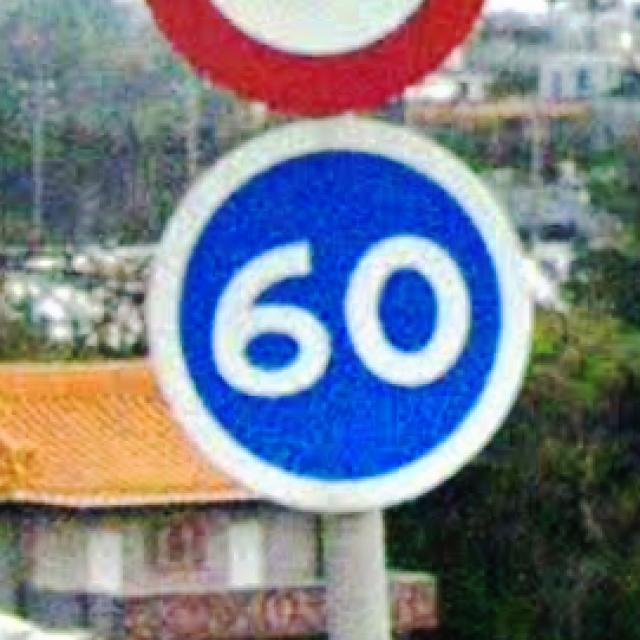min60: (142, 114, 536, 512)
